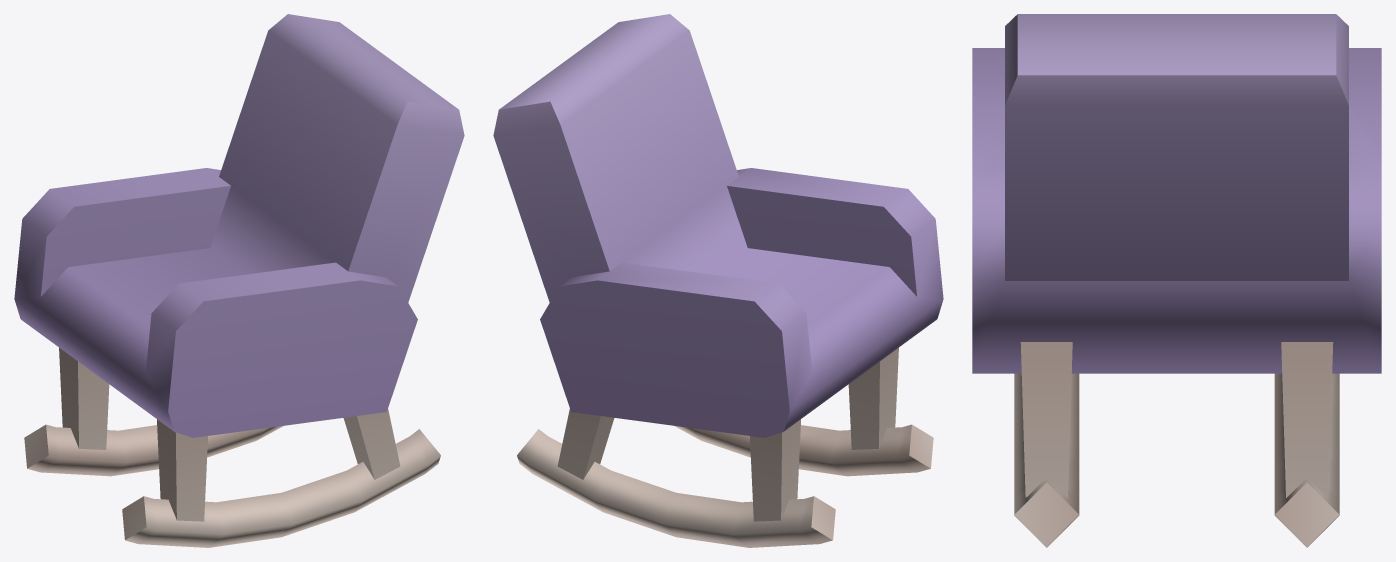
The model's file is chair-rocking-comfy.glb.
3 renders of one model, left to right at view 1: azimuth 30°, elevation 25°; view 2: azimuth 150°, elevation 25°; view 3: azimuth 270°, elevation 25°, orthographic. The views are drawn at different scales.
Visible parts, largest first — view 1: chair-rocking-comfy; view 2: chair-rocking-comfy; view 3: chair-rocking-comfy.
Part boxes in pixels (left/top/right/bottom): chair-rocking-comfy: left=14, top=14, right=464, bottom=547; chair-rocking-comfy: left=493, top=14, right=943, bottom=547; chair-rocking-comfy: left=972, top=14, right=1381, bottom=547.
Bounding box in the file's own units: 0.5733 × 0.7028 × 0.4711.
